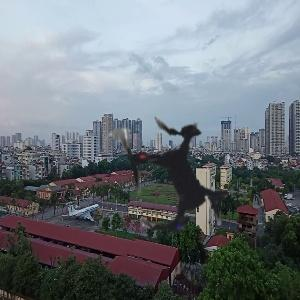drone: (67, 75, 276, 284)
